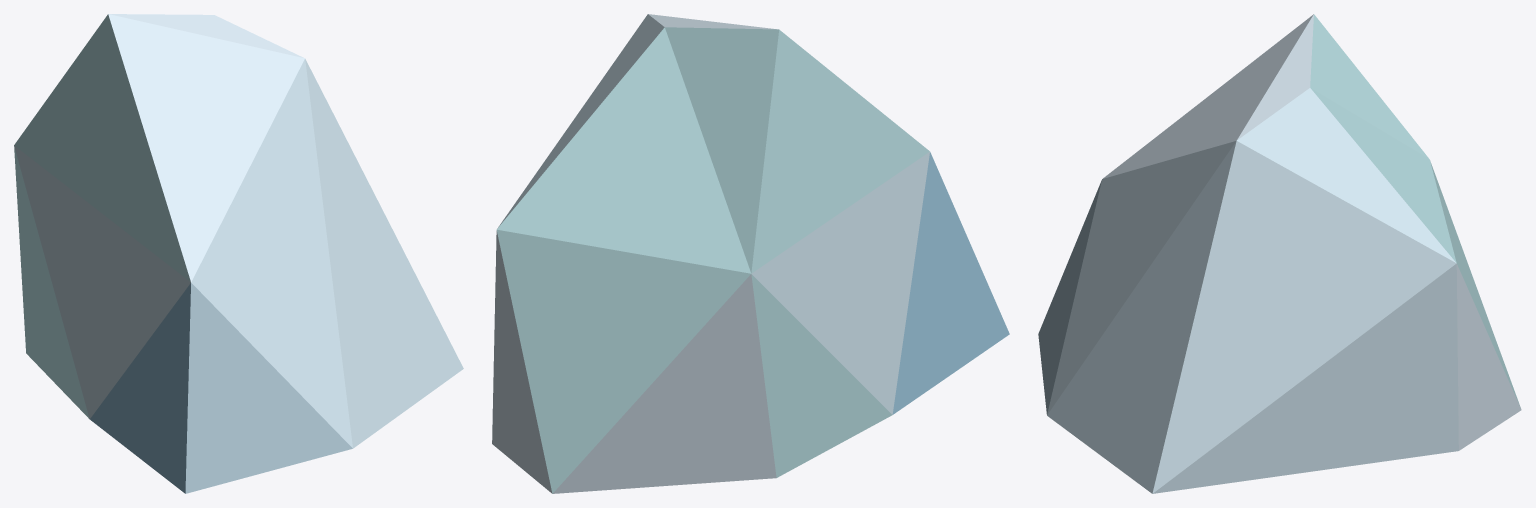
File: Iceberg 13.fbx
3 renders of one model, left to right at view 1: azimuth 30°, elevation 25°; view 2: azimuth 150°, elevation 25°; view 3: azimuth 270°, elevation 25°, orthographic. The views are drawn at different scales.
Parts seen in each view (by area): view 1: Iceberg 10; view 2: Iceberg 10; view 3: Iceberg 10.
Part boxes in pixels (x1,y1,x2,y2): Iceberg 10: [14, 14, 463, 493]; Iceberg 10: [492, 14, 1009, 493]; Iceberg 10: [1038, 14, 1521, 493].
Size of the model in its own units: 1793 by 1832 by 2289.
